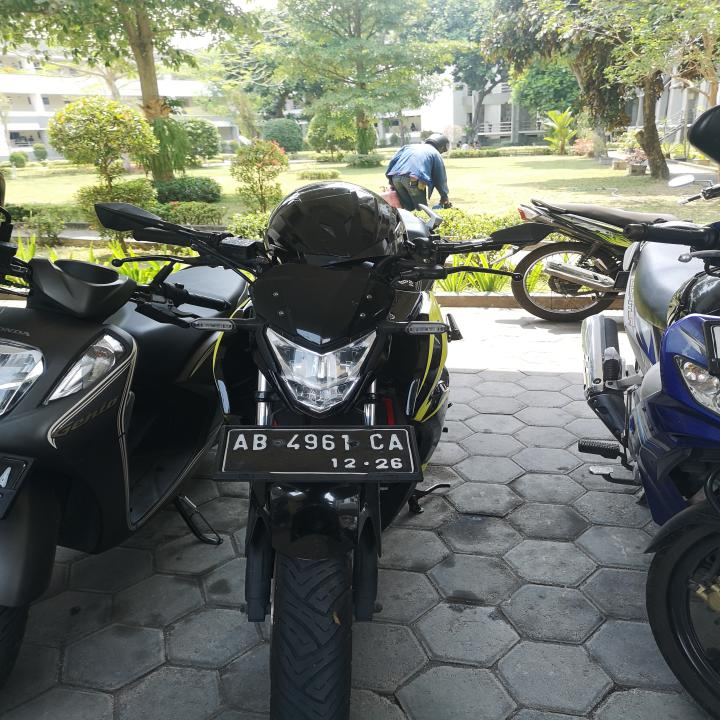plate: (214, 421, 424, 486)
